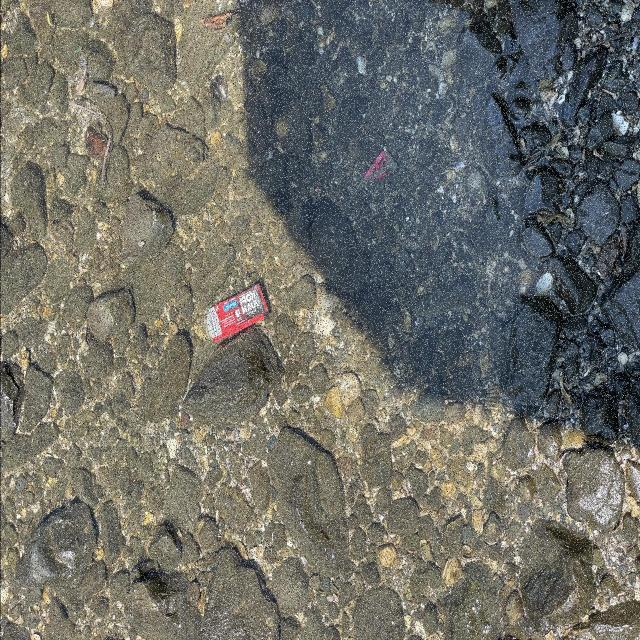plastic_waste: (206, 284, 270, 346)
